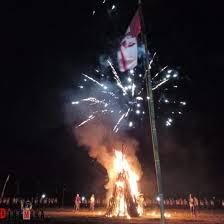Fire: (103, 147, 144, 216)
